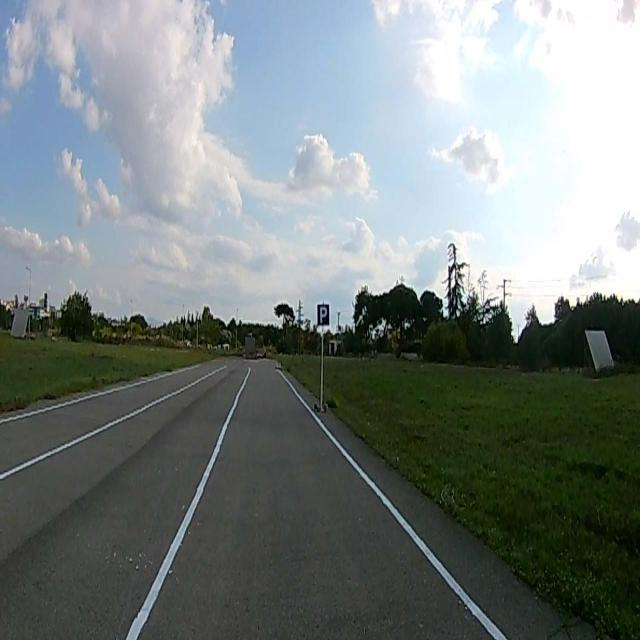park: (316, 304, 329, 327)
